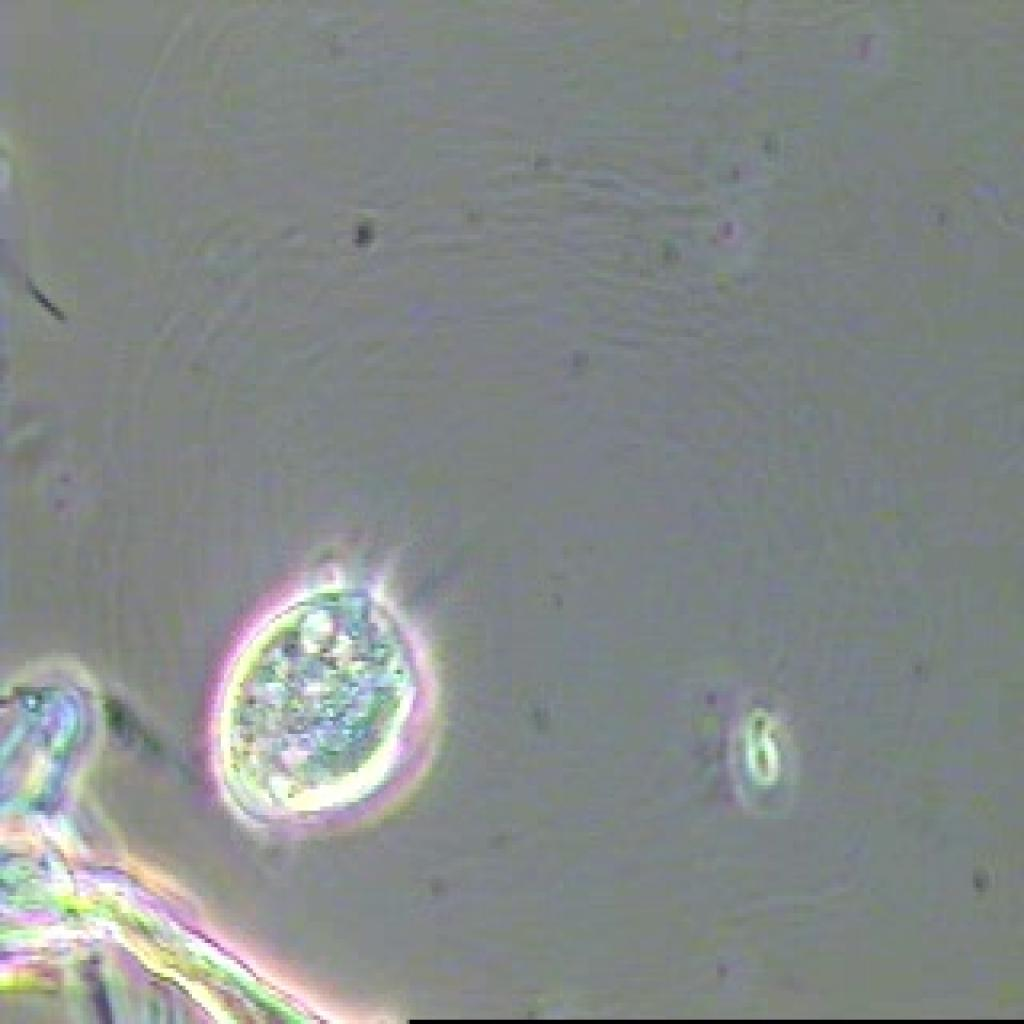Aspidisca: (189, 520, 464, 845)
